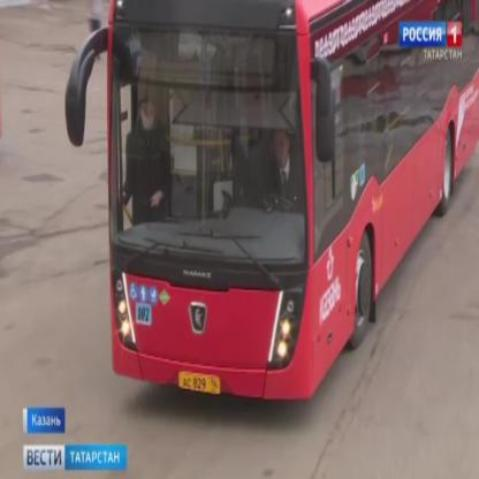bus: (104, 1, 479, 417)
